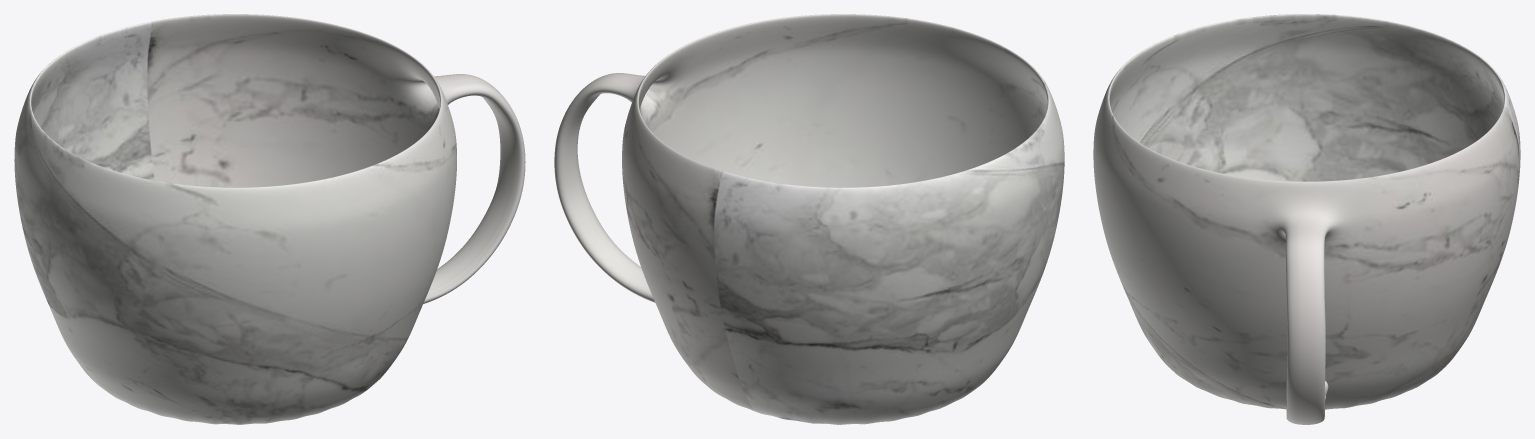
The model's file is cana_1_imr.fbx.
3 views of the same model, side by side, from view 1: azimuth 30°, elevation 25°; view 2: azimuth 150°, elevation 25°; view 3: azimuth 270°, elevation 25° (orthographic). The views are drawn at different scales.
Parts seen in each view (by area): view 1: Cylinder; view 2: Cylinder; view 3: Cylinder.
Boxes of the visible parts, x1,y1,x2,y2 form: Cylinder: (14,14,525,424); Cylinder: (554,14,1064,424); Cylinder: (1093,14,1520,424).
Size of the model in its own units: 255 by 144 by 205.
